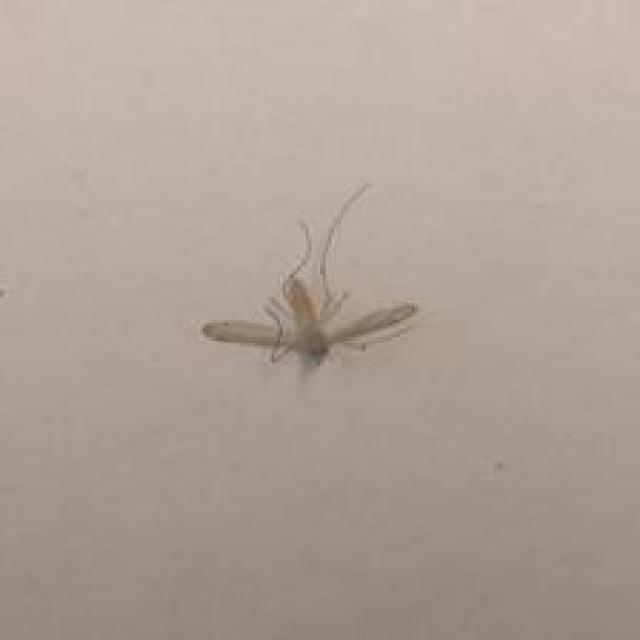Culex: (202, 180, 418, 380)
